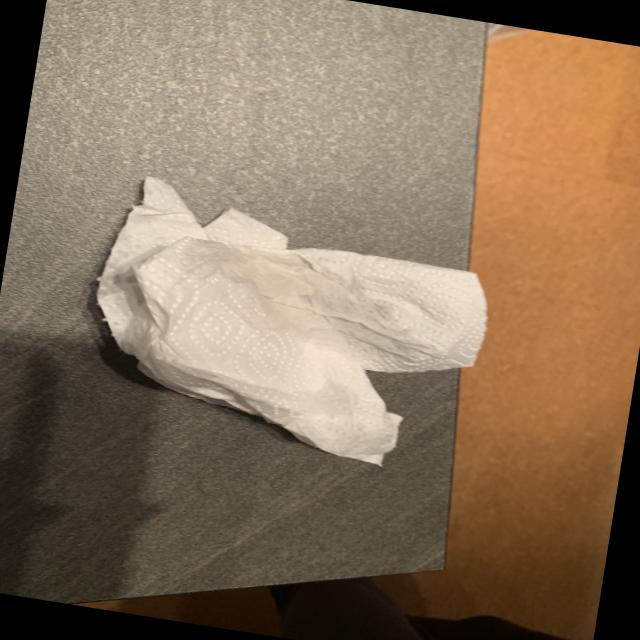organic waste: (62, 161, 500, 483)
